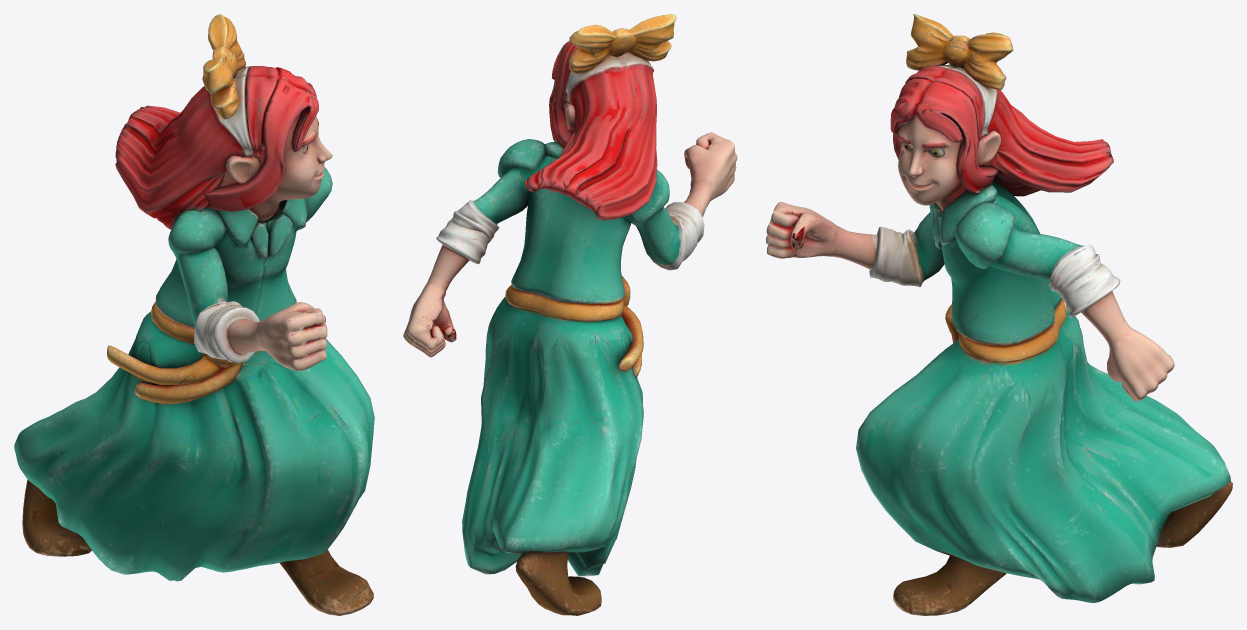
File: MZ4250 - Child Female.glb
3 views of the same model, side by side, from view 1: azimuth 30°, elevation 25°; view 2: azimuth 150°, elevation 25°; view 3: azimuth 270°, elevation 25° (orthographic). The views are drawn at different scales.
Parts seen in each view (by area): view 1: MZ4250 - Child Female; view 2: MZ4250 - Child Female; view 3: MZ4250 - Child Female.
Boxes of the visible parts, left/top/right/bottom form: MZ4250 - Child Female: left=14, top=14, right=374, bottom=615; MZ4250 - Child Female: left=403, top=14, right=737, bottom=615; MZ4250 - Child Female: left=766, top=14, right=1232, bottom=615.
Bounding box in the file's own units: 0.272 × 0.6128 × 0.4871.
1 material, 1 textured.
